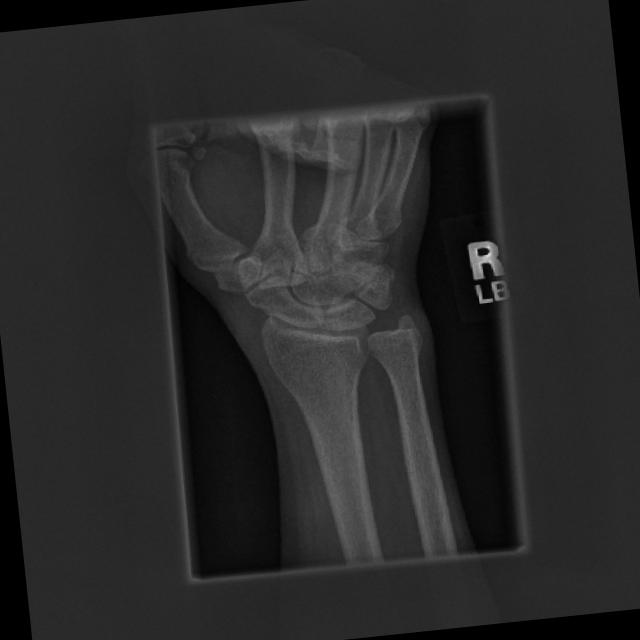fingers positive: (287, 262, 320, 295)
